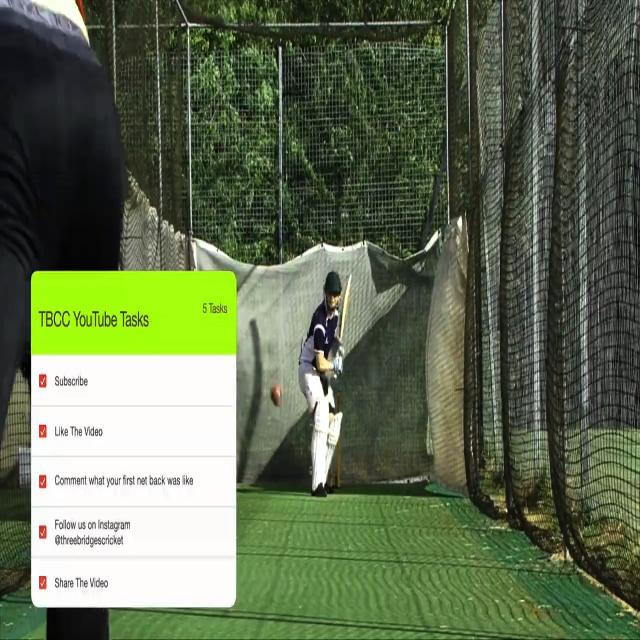batsman: (296, 268, 354, 501)
